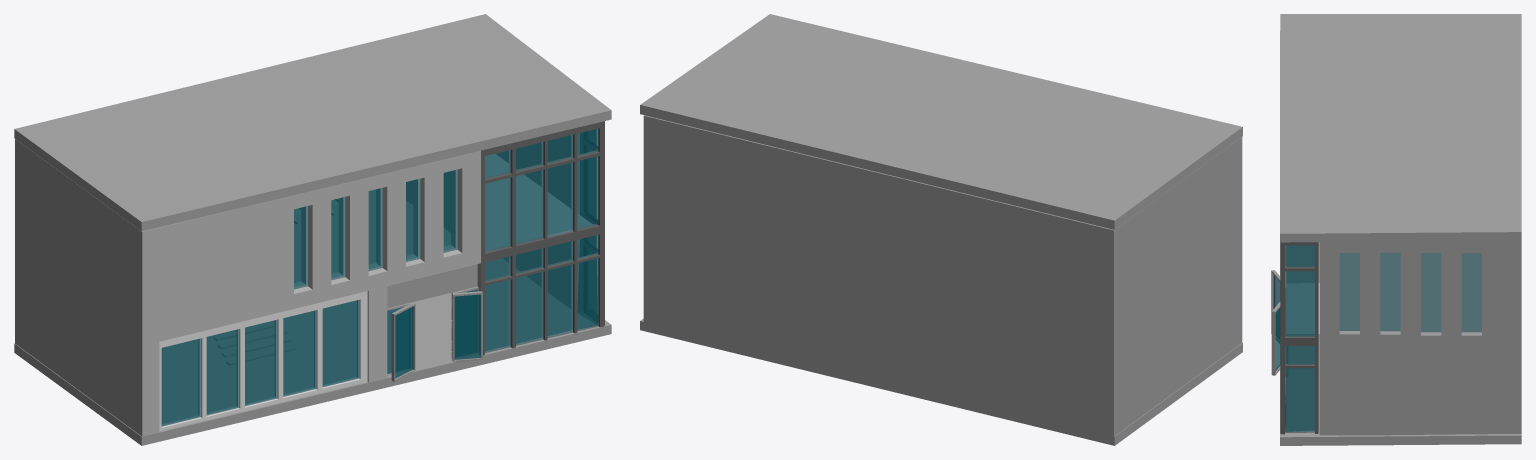
File: Chase_buildingv2.fbx
3 renders of one model, left to right at view 1: azimuth 30°, elevation 25°; view 2: azimuth 150°, elevation 25°; view 3: azimuth 270°, elevation 25°, orthographic. The views are drawn at different scales.
Parts seen in each view (by area): view 1: building_base, roof, foundation, Window_wide, pCube3, pCube2, pCylinder6, pCylinder5, stairs; view 2: building_base, roof, foundation; view 3: roof, building_base, foundation, pCube3, pCube2.
Boxes of the visible parts, <box> form: building_base: <box>15,121,604,436</box>; roof: <box>14,14,611,231</box>; foundation: <box>14,258,611,445</box>; Window_wide: <box>159,291,367,431</box>; pCube3: <box>452,291,482,361</box>; pCube2: <box>391,302,415,381</box>; pCylinder6: <box>451,286,478,358</box>; pCylinder5: <box>387,302,411,375</box>; stairs: <box>213,322,295,365</box>; building_base: <box>643,115,1242,437</box>; roof: <box>640,14,1242,229</box>; foundation: <box>640,318,1242,445</box>; roof: <box>1280,14,1521,242</box>; building_base: <box>1280,240,1521,435</box>; foundation: <box>1280,243,1521,445</box>; pCube3: <box>1271,301,1280,375</box>; pCube2: <box>1271,270,1280,343</box>.
Bounding box in the file's own units: 16.1 × 7.39 × 7.8.
